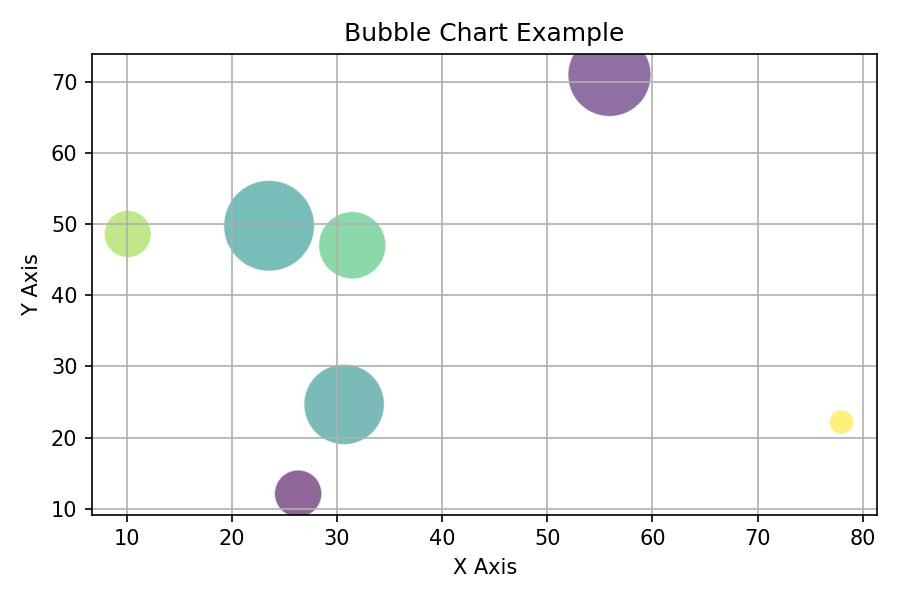axis: (70, 503, 889, 556), (50, 38, 101, 544)
circle: (224, 180, 314, 272), (568, 52, 655, 113), (321, 211, 384, 278), (103, 210, 153, 258), (274, 470, 324, 516), (829, 404, 858, 435)
